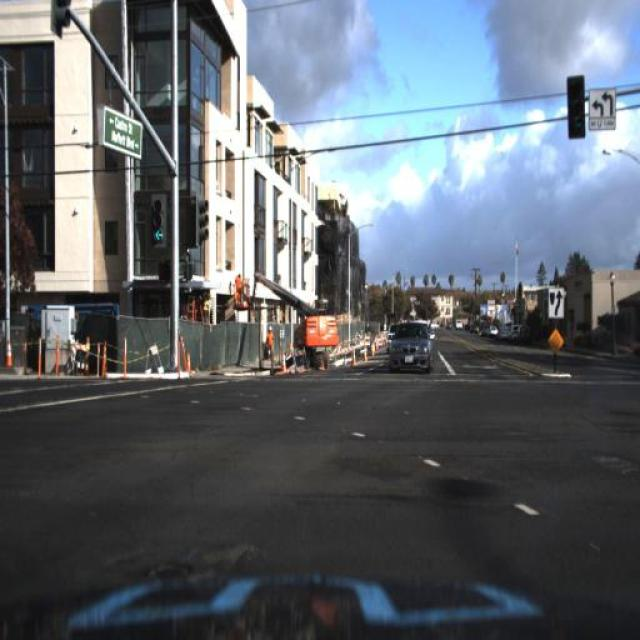car: (391, 321, 432, 369), (489, 318, 501, 342), (388, 324, 394, 354)
trafficLight: (228, 258, 248, 318), (263, 324, 275, 364), (264, 320, 274, 366), (230, 268, 244, 298)
trafficLight-Red: (146, 190, 170, 266), (152, 199, 166, 243)
